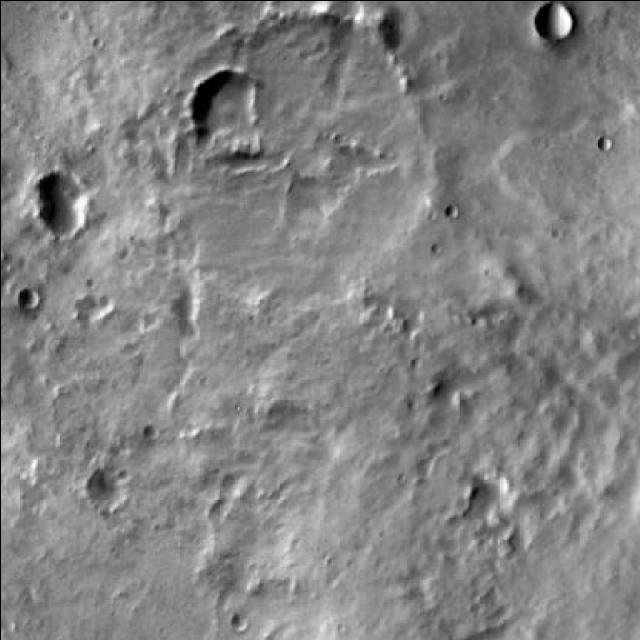crater: (147, 17, 436, 300), (194, 72, 258, 134), (38, 170, 96, 228), (86, 465, 132, 510), (532, 2, 570, 40), (471, 479, 509, 516), (78, 293, 114, 327), (502, 530, 526, 552), (15, 288, 34, 308), (228, 614, 246, 632), (144, 424, 162, 439)
